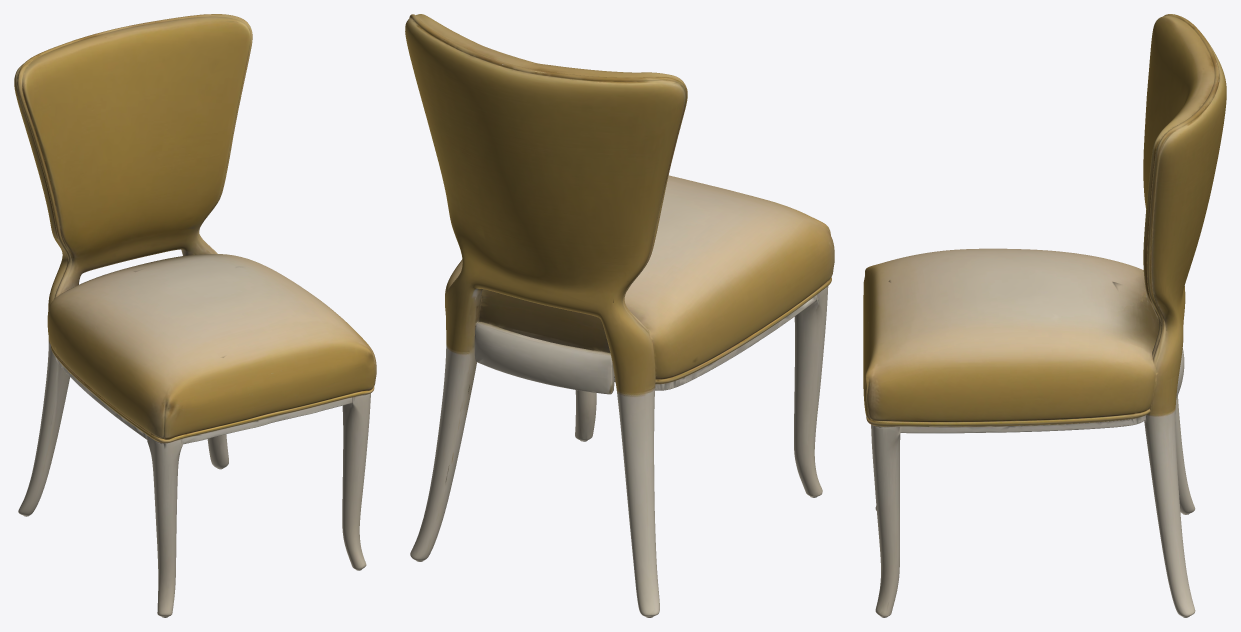
File: c02-realistic.glb
The picture shows the model from 3 angles, left to right: view 1: azimuth 30°, elevation 25°; view 2: azimuth 150°, elevation 25°; view 3: azimuth 270°, elevation 25°; orthographic projection. The views are drawn at different scales.
Parts seen in each view (by area): view 1: node_0; view 2: node_0; view 3: node_0.
Boxes of the visible parts, x1,y1,x2,y2 form: node_0: [14, 14, 376, 617]; node_0: [405, 14, 834, 617]; node_0: [863, 14, 1226, 617].
Size of the model in its own units: 0.5168 by 0.9606 by 0.6397.
1 material, 1 textured.
